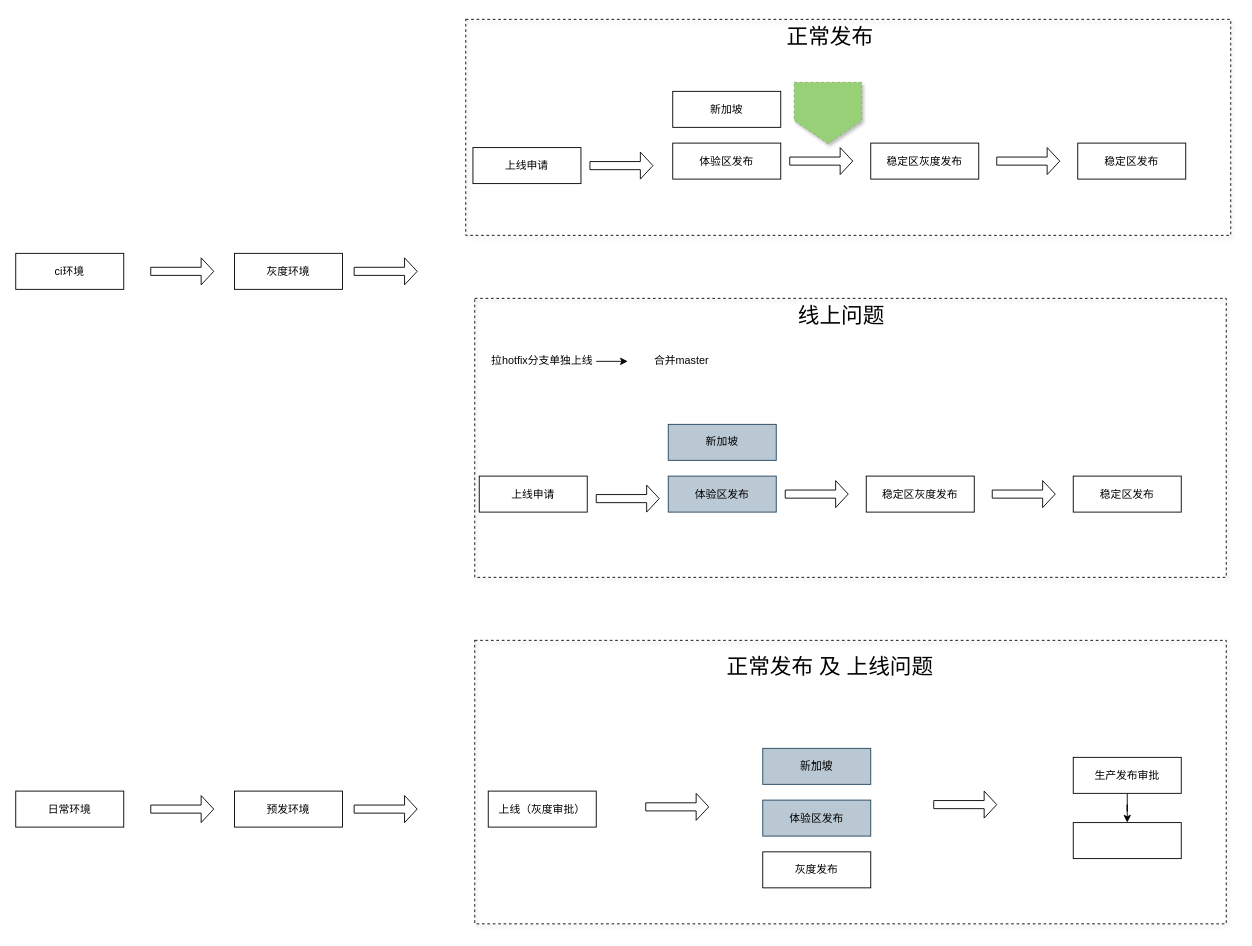
The diagram is 1252 pixels wide and 946 high, and some of its shapes have lost their labels. Here are the shapes that lost their labels. From the top down, the centre of each, then its label:
point 828,114: 停留天数？
point 1126,840: 生产发布
